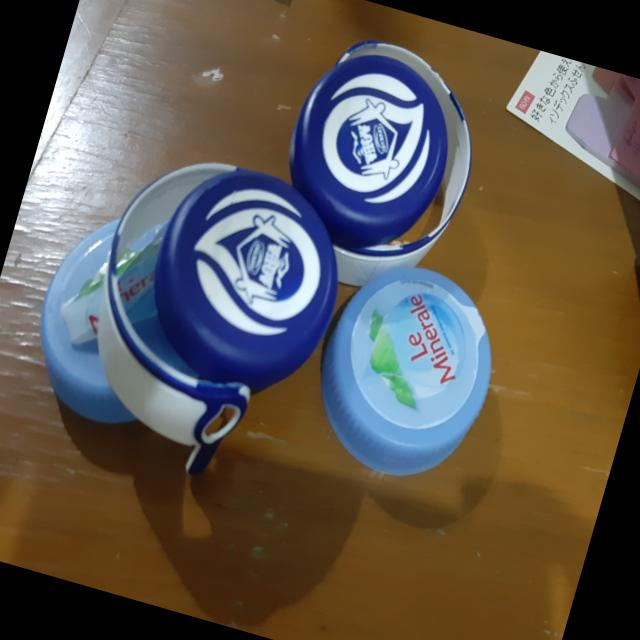TutupGalon: (0, 0, 586, 590)
